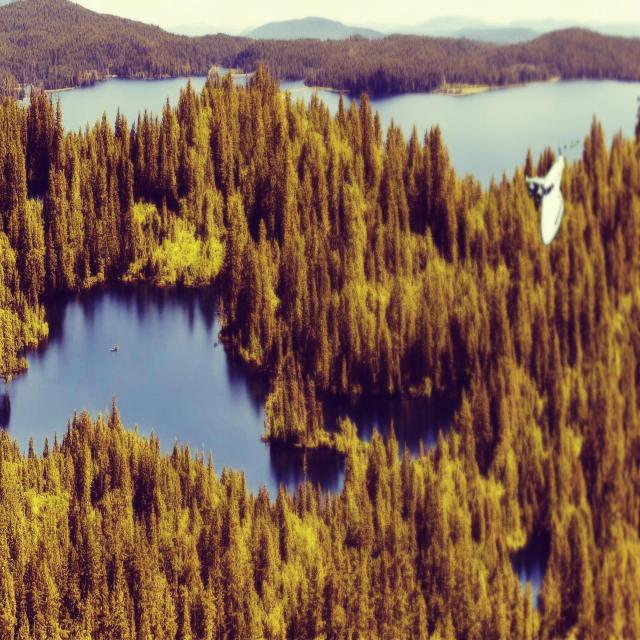airplane: (525, 158, 565, 245)
